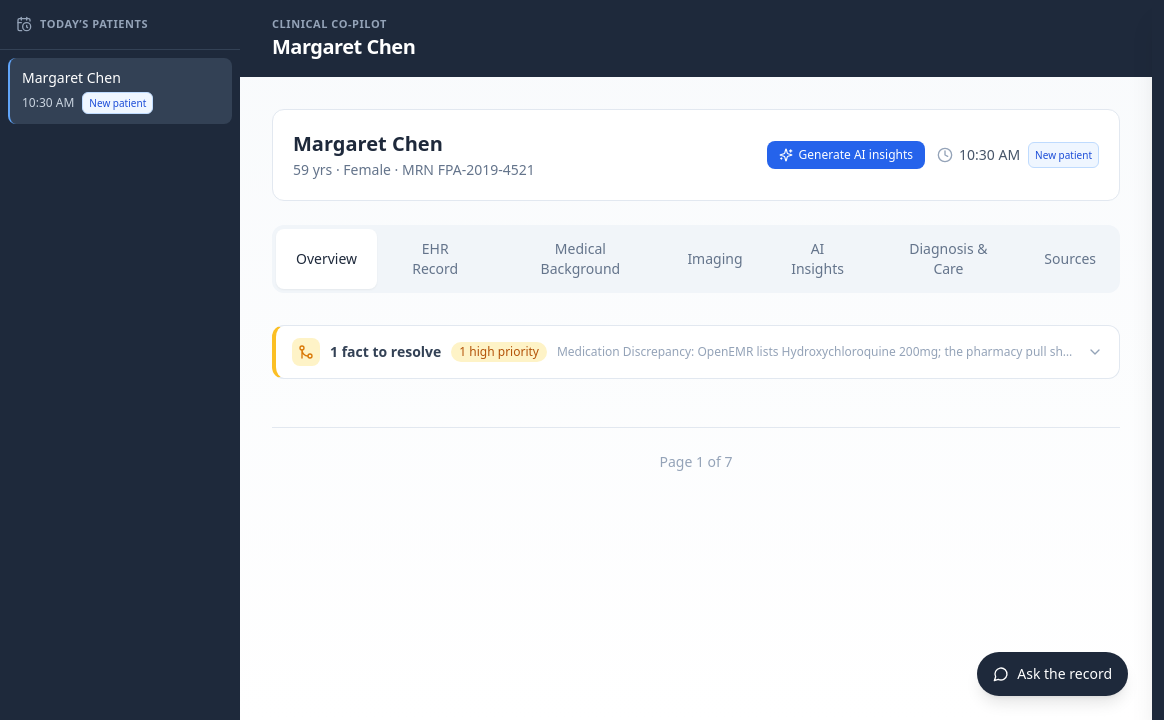
Test case: Origin badges › labels both sides of an EHR-vs-external contradiction with their origin
Expected: the heading "1 fact to resolve" is shown, x1=330 y1=342 x2=441 y2=362
What coordinates should you click on to do the following:
click the button that starts with "fact"
I would click on:
 (698, 352)
Its box is x1=276 y1=326 x2=1119 y2=378.
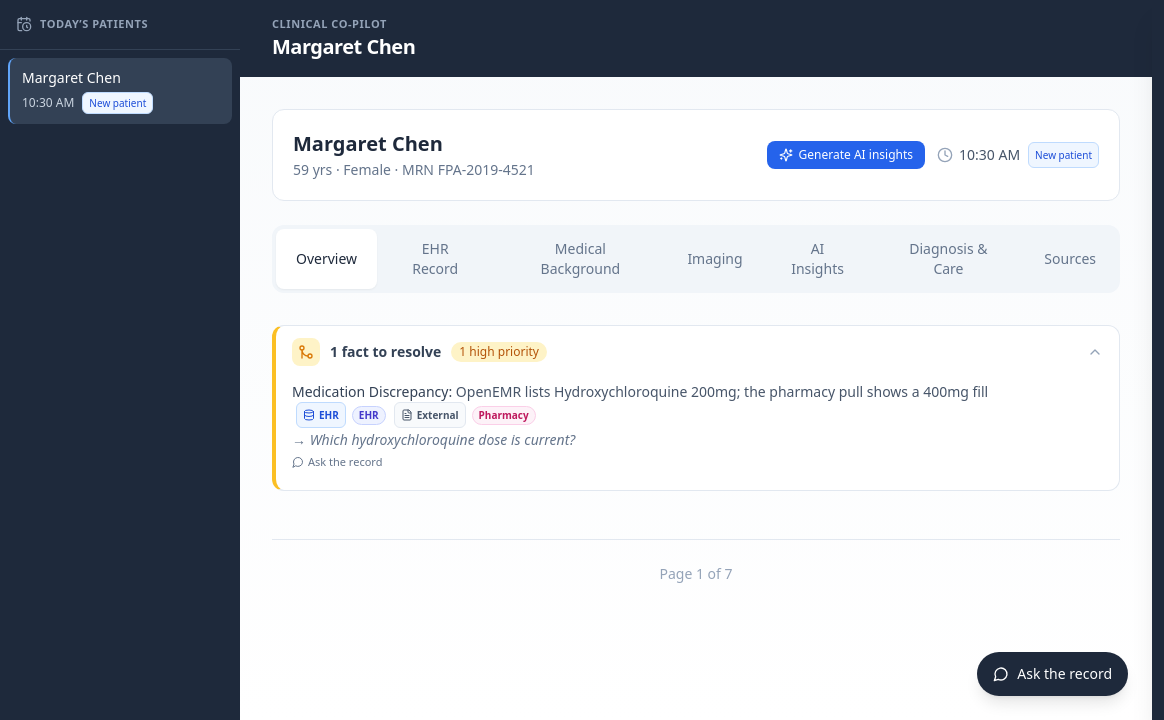
Expected: the text "OpenEMR lists Hydroxychloroquine 200mg" is shown, x1=456 y1=382 x2=988 y2=400
Expected: the number of elements with test id "origin-badge" is 2, x1=296 y1=402 x2=346 y2=428; x1=394 y1=402 x2=466 y2=428
Expected: the element with test id "origin-badge" reads "EHR", x1=319 y1=408 x2=339 y2=422
